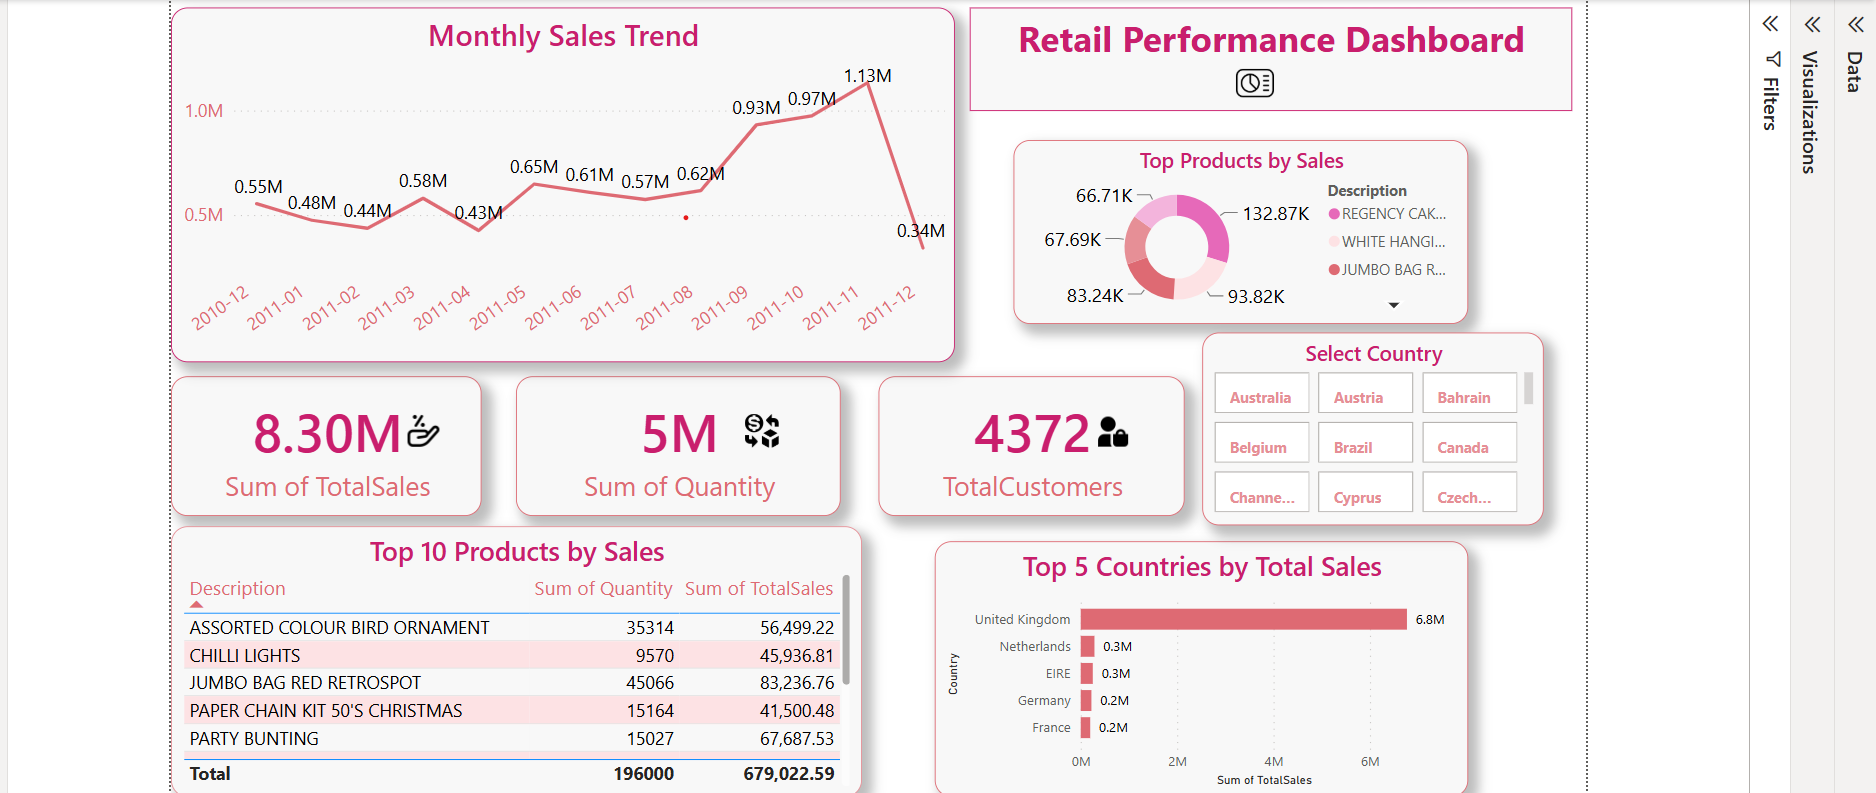

Layout of this report page (visuals, bound fields, positions):
{"tool":"powerbi","page":{"name":"Page 5","canvas":[1280,720],"ordinal":4},"visuals":[{"type":"card","fields":{"Values":["Sum(Online Retail.TotalSales)"]},"box":[0,340,281.1,126.7],"z":0},{"type":"card","fields":{"Values":["Sum(Online Retail.Quantity)"]},"box":[312.2,340,293.3,126.7],"z":1000},{"type":"card","fields":{"Values":["Online Retail.TotalCustomers"]},"box":[640,340,276.7,126.7],"z":2000},{"type":"lineChart","title":"Monthly Sales Trend","fields":{"Category":["Online Retail.YearMonth"],"Y":["Sum(Online Retail.TotalSales)"]},"box":[0,6.7,708.9,321.1],"z":3000},{"type":"clusteredBarChart","title":"Top 5 Countries by Total Sales","fields":{"Category":["Online Retail.Country"],"Y":["Sum(Online Retail.TotalSales)"]},"box":[691.1,488.9,482.2,231.1],"z":4000},{"type":"donutChart","title":"Top Products by Sales","fields":{"Category":["Online Retail.Description"],"Y":["Sum(Online Retail.TotalSales)"]},"box":[762.2,126.7,411.1,166.7],"z":5000},{"type":"tableEx","title":"Top 10 Products by Sales","fields":{"Values":["Online Retail.Description","Sum(Online Retail.Quantity)","Sum(Online Retail.TotalSales)"]},"box":[0,475.6,624.4,244.4],"z":6000},{"type":"advancedSlicerVisual","title":"Select Country","fields":{"Values":["Online Retail.Country"]},"box":[932.2,301.1,308.9,174.4],"z":7000},{"type":"textbox","box":[722.2,6.7,544.4,93.3],"z":8000},{"type":"image","box":[514.4,370,40,40],"z":9000},{"type":"image","box":[208.9,370,38.9,40],"z":10000},{"type":"image","box":[831.4,372.1,40.7,37.2],"z":11000},{"type":"image","box":[872.2,53.3,214.4,44.4],"z":12000}]}

Visuals, with their boxes on the page's 1280x720 design canvas (x1, y1, x2, y2). These are canvas units, not pixel positions in the 1876x793 screenshot, which may show the page scaled, cropped or inside an application window:
card - Sum(Online Retail.TotalSales): box=[0, 340, 281, 467]
card - Sum(Online Retail.Quantity): box=[312, 340, 606, 467]
card - Online Retail.TotalCustomers: box=[640, 340, 917, 467]
"Monthly Sales Trend" lineChart: box=[0, 7, 709, 328]
"Top 5 Countries by Total Sales" clusteredBarChart: box=[691, 489, 1173, 720]
"Top Products by Sales" donutChart: box=[762, 127, 1173, 293]
"Top 10 Products by Sales" tableEx: box=[0, 476, 624, 720]
"Select Country" advancedSlicerVisual: box=[932, 301, 1241, 476]
textbox: box=[722, 7, 1267, 100]
image: box=[514, 370, 554, 410]
image: box=[209, 370, 248, 410]
image: box=[831, 372, 872, 409]
image: box=[872, 53, 1087, 98]
